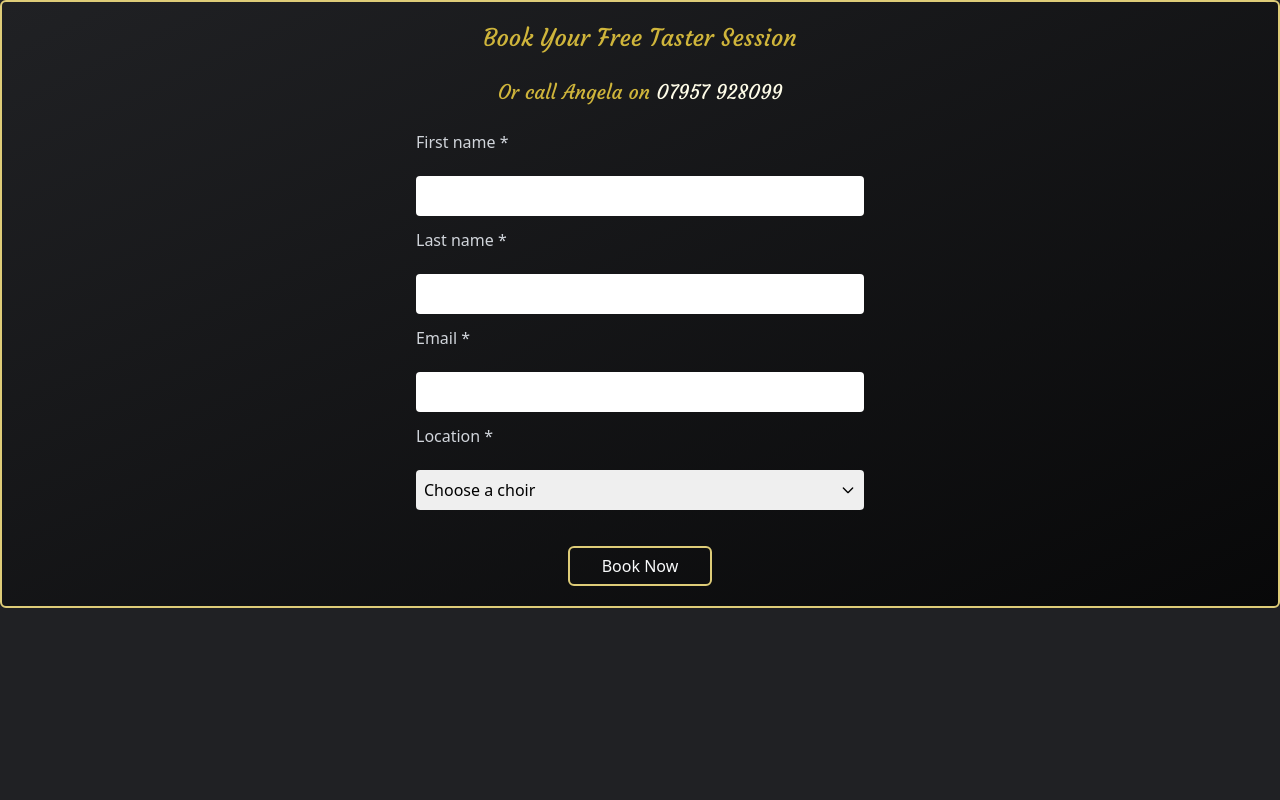
Book Taster Form Component › should display a success message when the user submits a valid form
The image size is (1280, 800).
In the field labelled "First name *": point(640, 196) left=416, top=176, right=864, bottom=216, type "John"
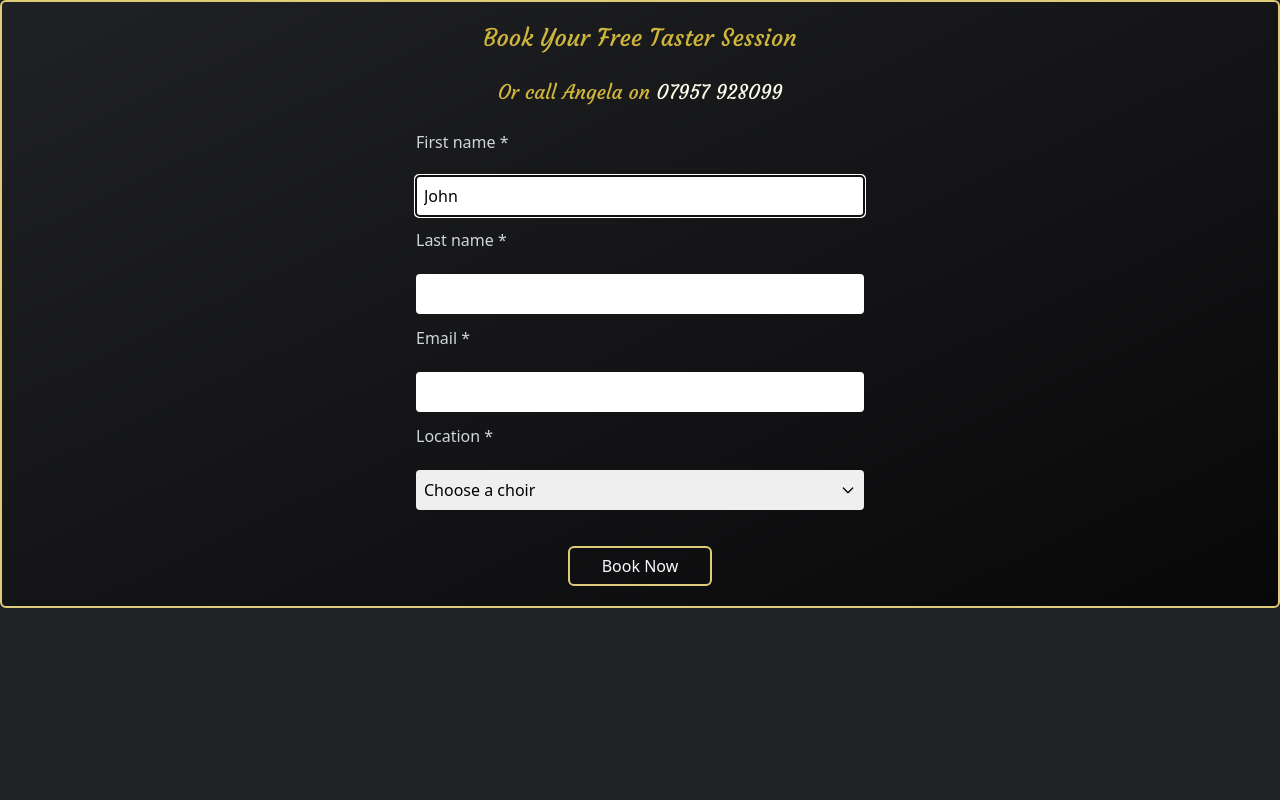
In the field labelled "Last name *": point(640, 294) left=416, top=274, right=864, bottom=314, type "Smith"
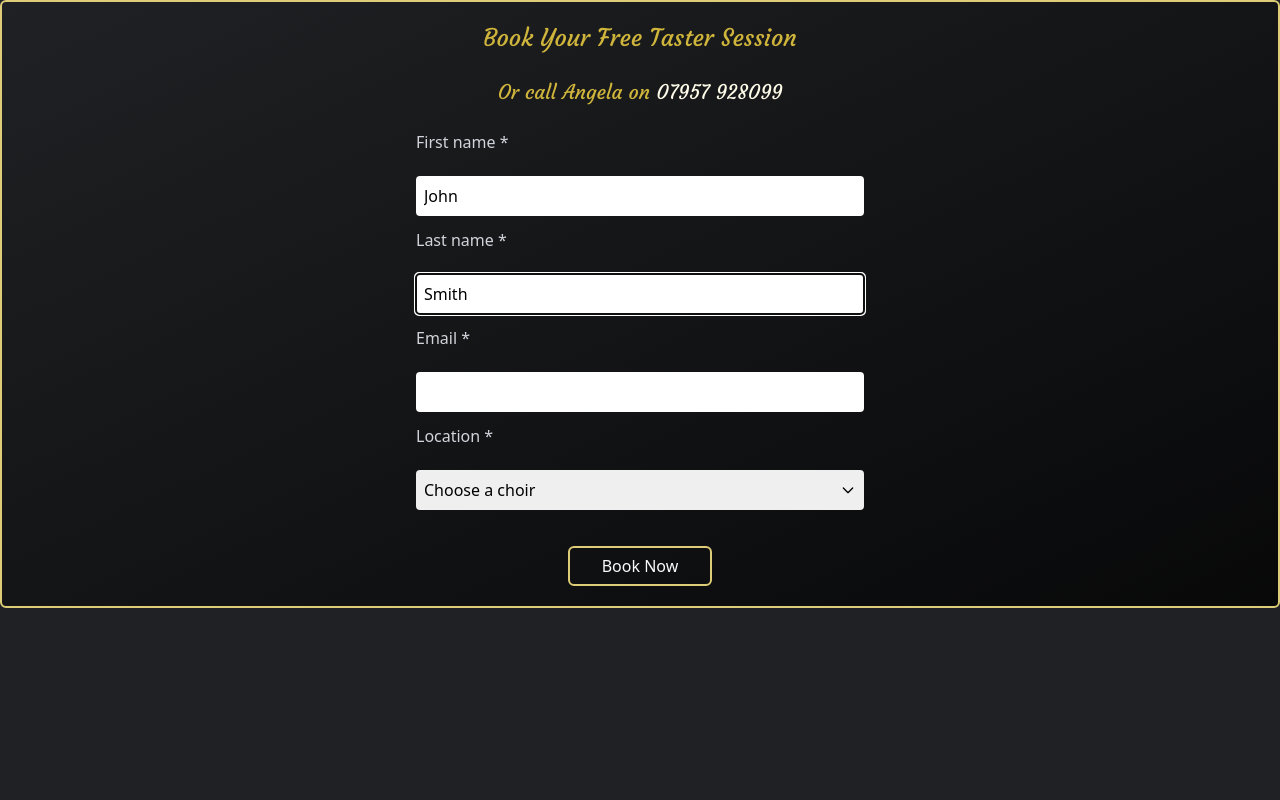
In the field labelled "Email *": point(640, 392) left=416, top=372, right=864, bottom=412, type "john@example.com"
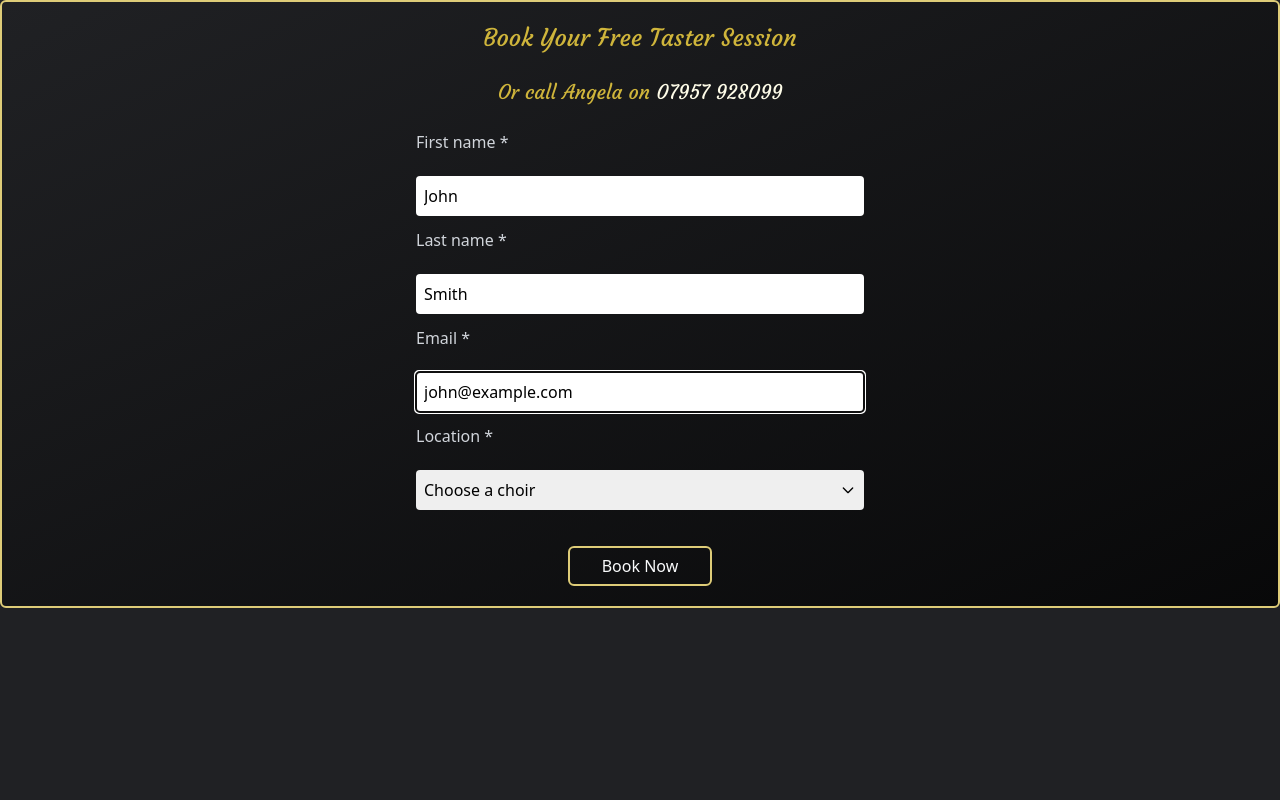
Select "Banstead" in the dropdown labelled "Location *": point(640, 490) left=416, top=470, right=864, bottom=510
(page scrolled)
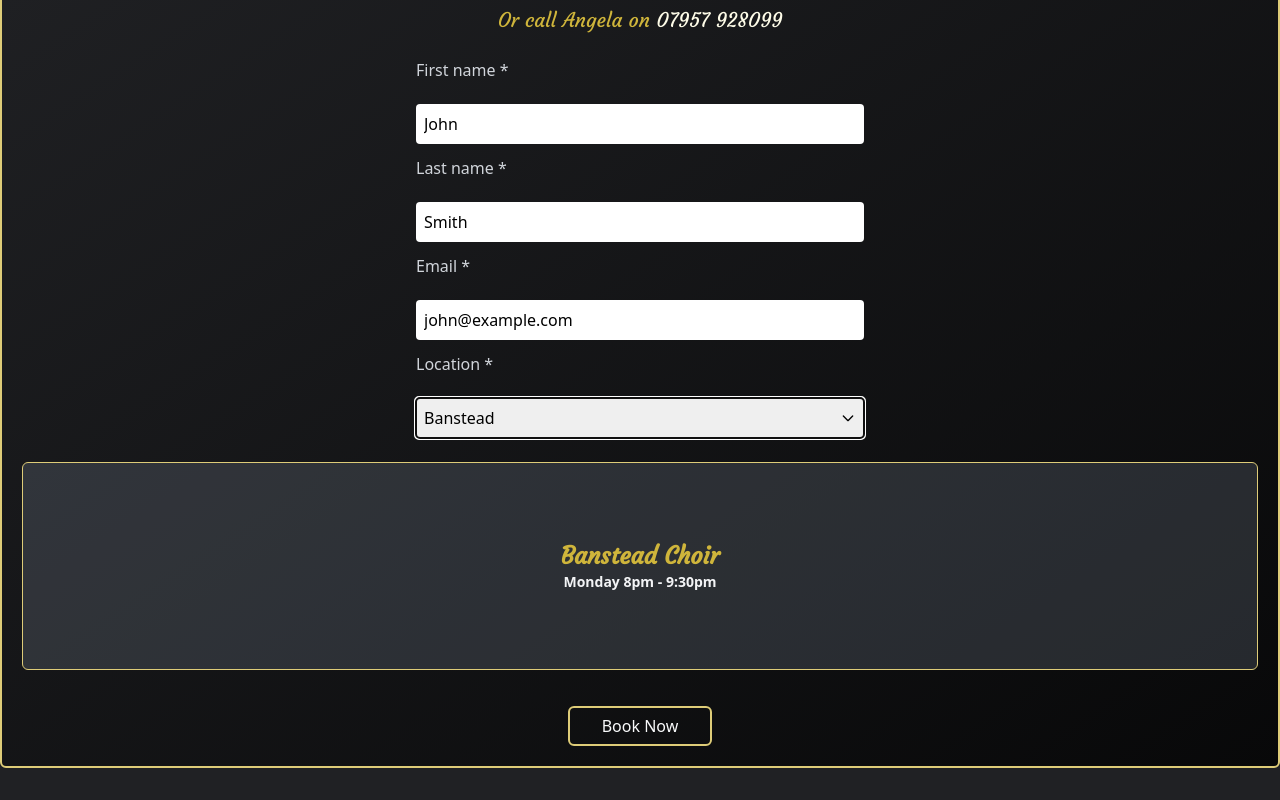
Click the button "Book Now": point(640, 726) left=568, top=706, right=712, bottom=746
(page scrolled)
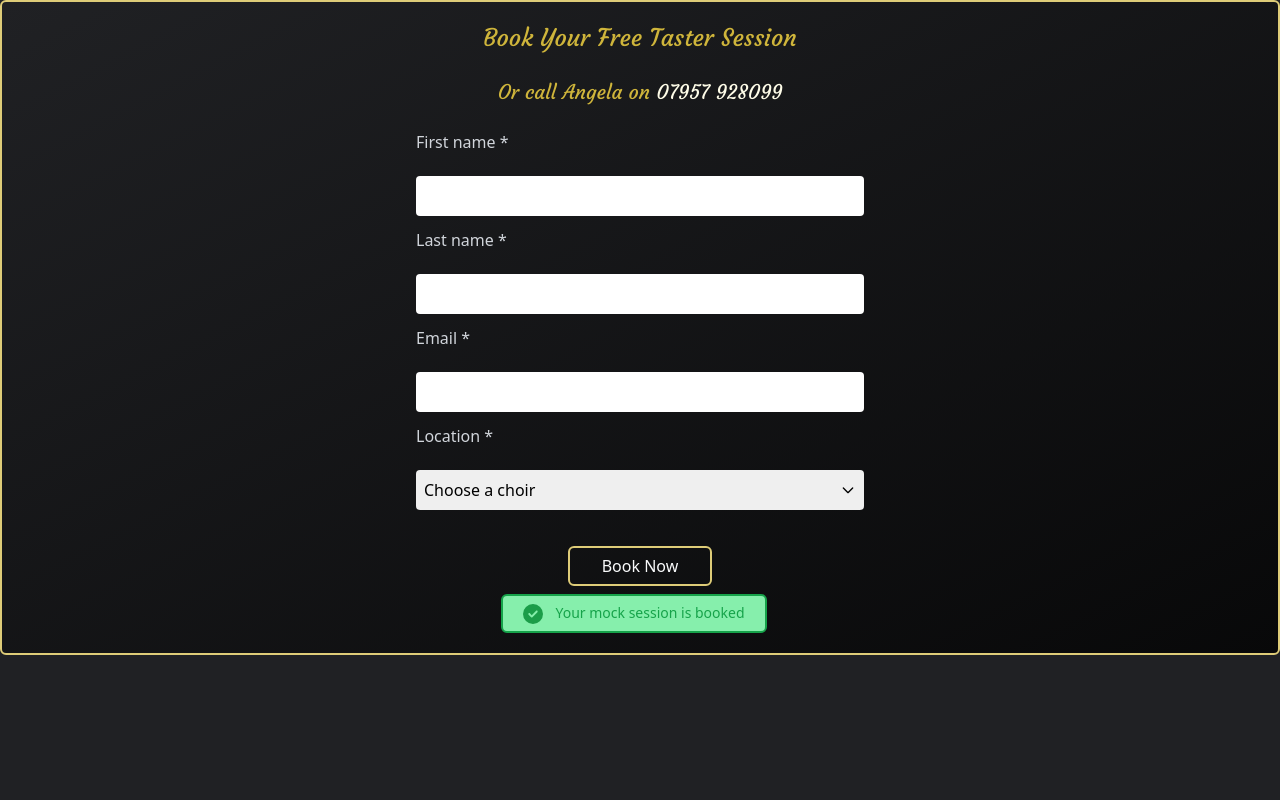
Now the text "Your mock session is booked" is shown, box left=556, top=603, right=744, bottom=622
